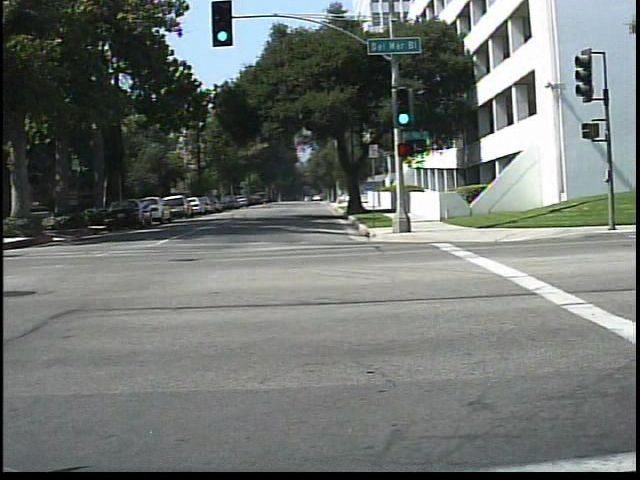car: (104, 196, 151, 229), (144, 194, 172, 222), (168, 193, 192, 219), (190, 196, 205, 215)
strada: (24, 246, 637, 465)
